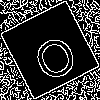O: (25, 25, 82, 84)
